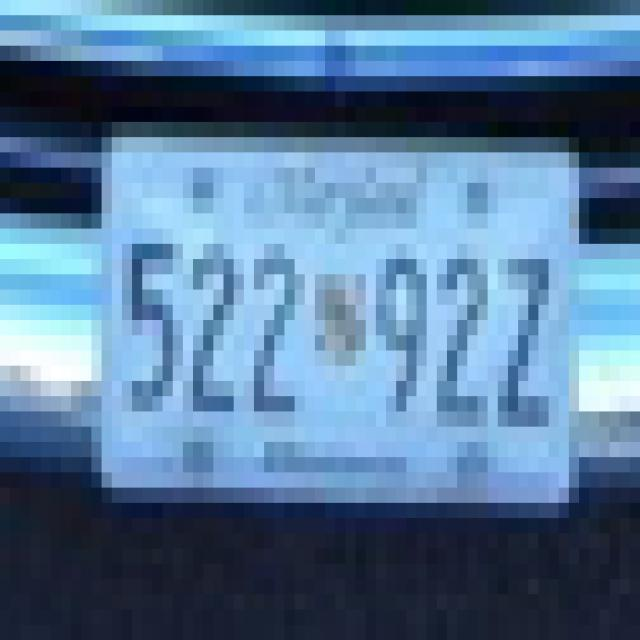5: (122, 215, 182, 440)
9: (371, 235, 431, 432)
Z: (496, 232, 558, 460)
